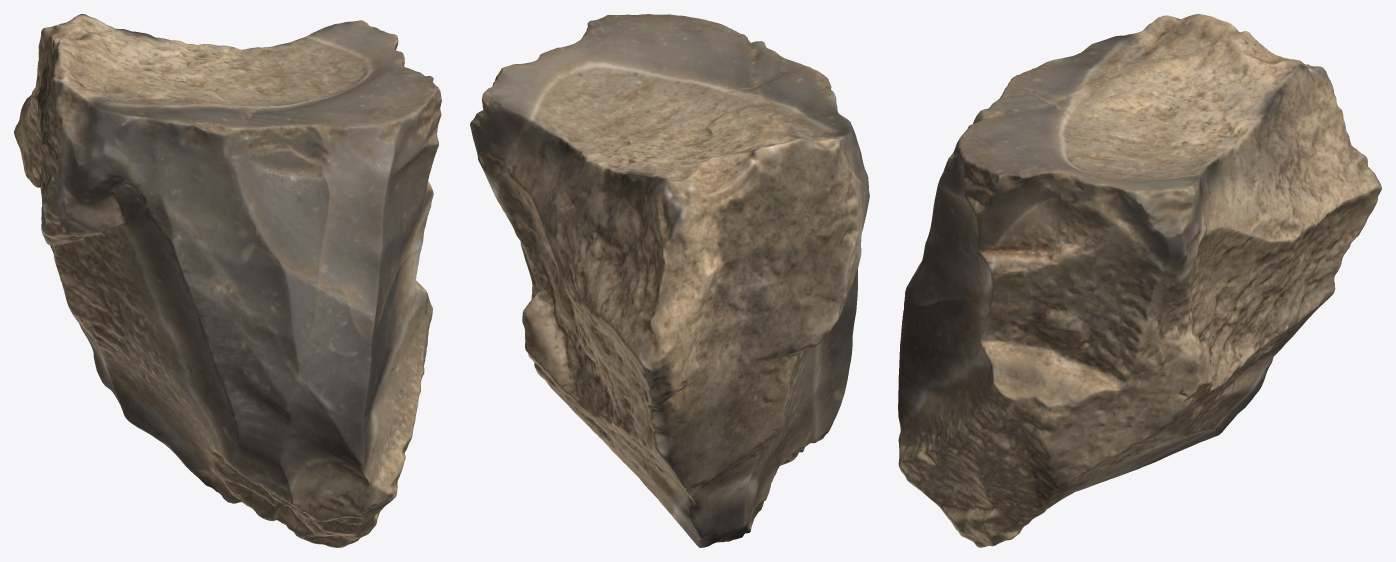
The model's file is flint-core-detail.glb.
3 views of the same model, side by side, from view 1: azimuth 30°, elevation 25°; view 2: azimuth 150°, elevation 25°; view 3: azimuth 270°, elevation 25° (orthographic). The views are drawn at different scales.
Parts seen in each view (by area): view 1: Flint_Core_S14618; view 2: Flint_Core_S14618; view 3: Flint_Core_S14618.
Part boxes in pixels (box(x1,y1,x2,y2)): Flint_Core_S14618: box(14, 14, 441, 547); Flint_Core_S14618: box(470, 14, 869, 547); Flint_Core_S14618: box(898, 14, 1381, 547).
Bounding box in the file's own units: 0.7862 × 1 × 0.9784.
Materials: 1 (1 with a texture image).
